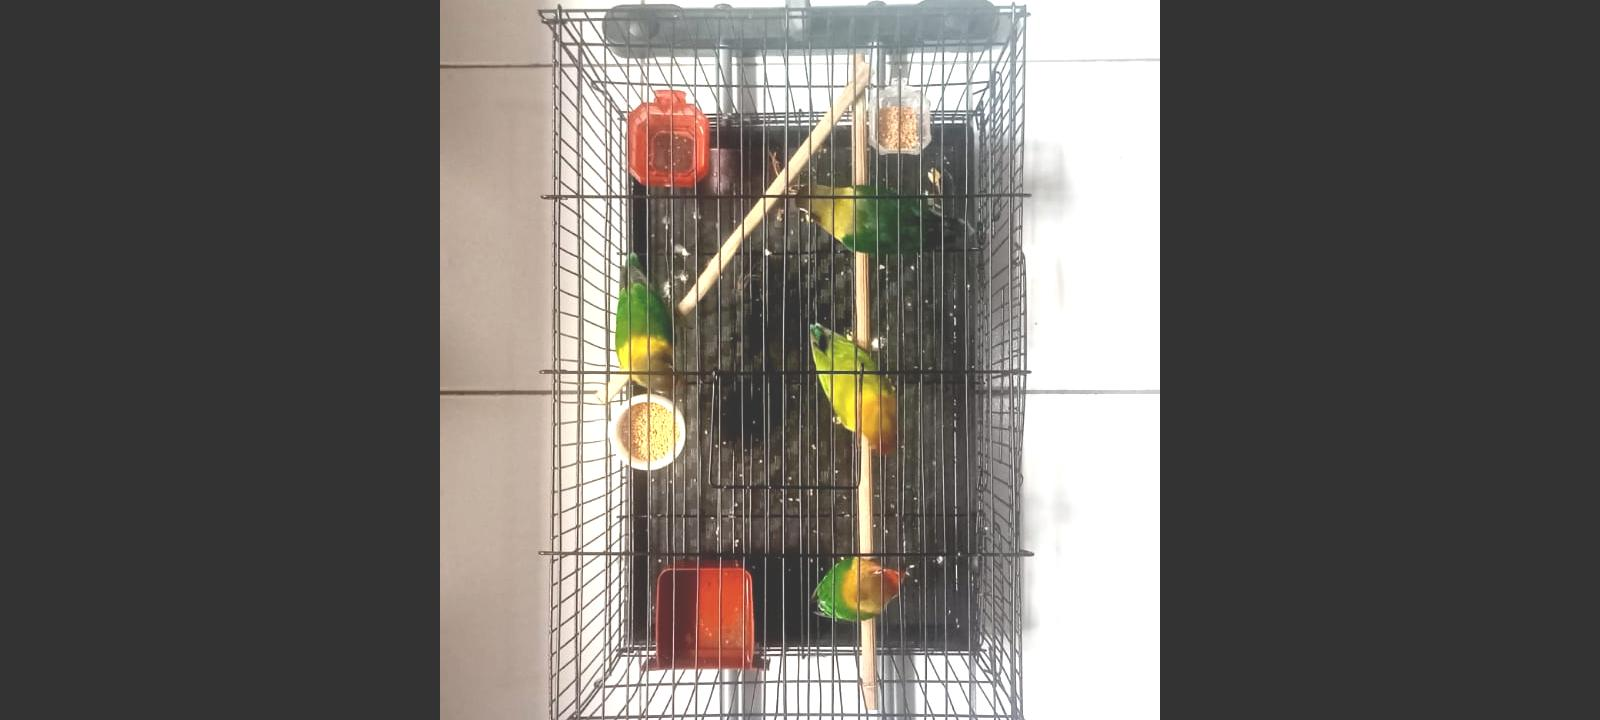LoveBird: (796, 183, 974, 254), (808, 322, 898, 457), (615, 249, 687, 388), (811, 556, 907, 621)
